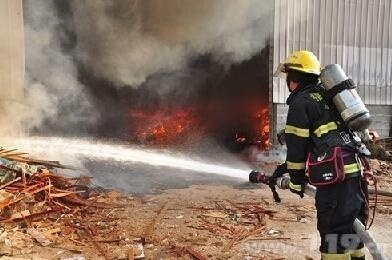fire: (128, 102, 196, 141)
